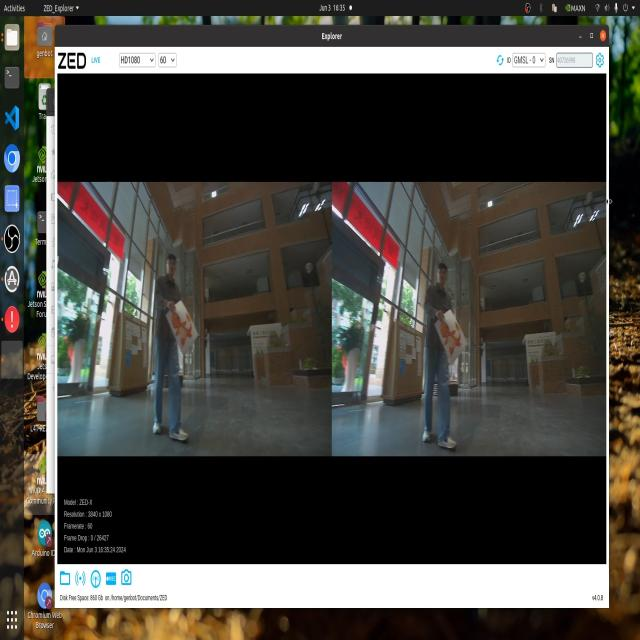red: (164, 304, 199, 348), (444, 314, 468, 360)
